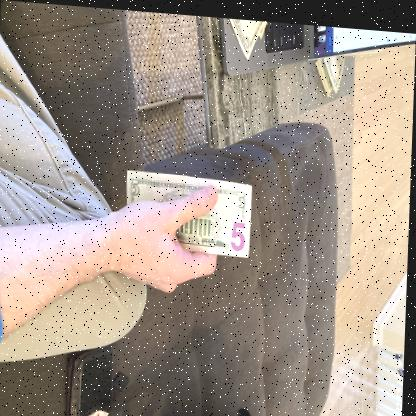five-back: (125, 167, 253, 255)
